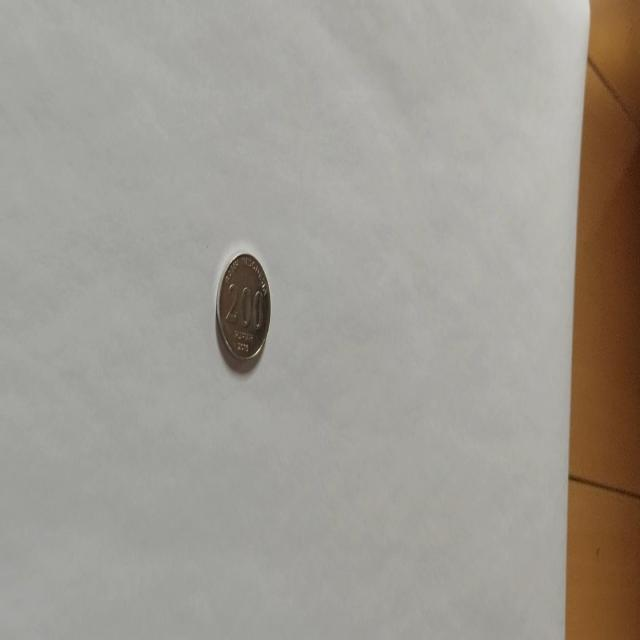dua ratus rupiah: (214, 250, 272, 369)
